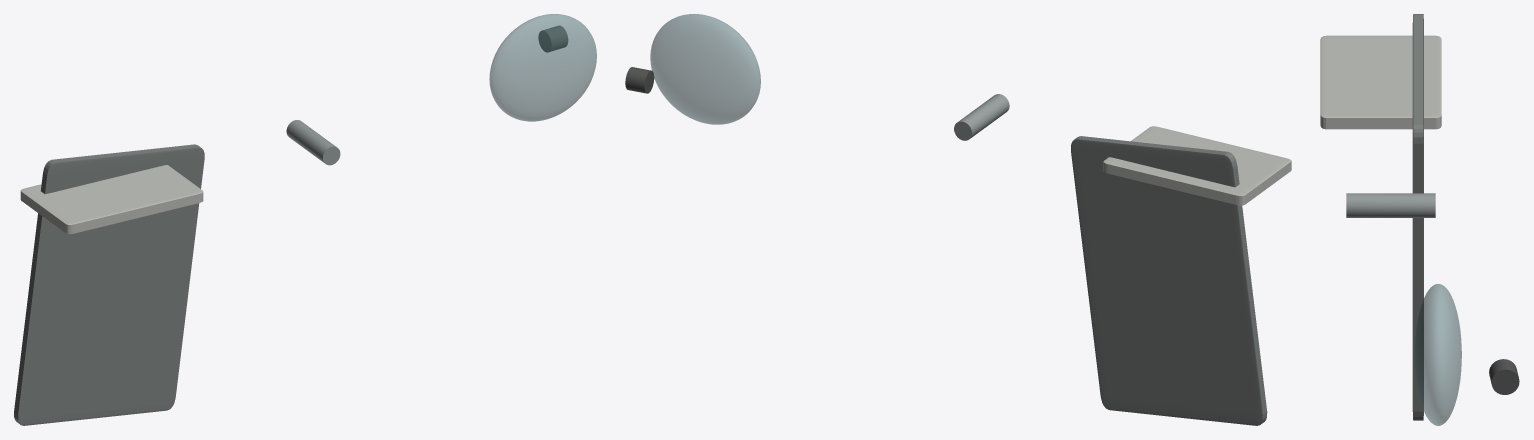
Rendered from c-u18-awacs-lod2.glb.
3 views of the same model, side by side, from view 1: azimuth 30°, elevation 25°; view 2: azimuth 150°, elevation 25°; view 3: azimuth 270°, elevation 25° (orthographic). The views are drawn at different scales.
Parts seen in each view (by area): view 1: transport_tailplane_-1, transport_cockpit, transport_fin_0, awacs_pylon, defensive_cannon_muzzle_0; view 2: transport_tailplane_-1, transport_cockpit, transport_fin_0, awacs_pylon, defensive_cannon_muzzle_0; view 3: transport_fin_0, transport_cockpit, transport_tailplane_-1, awacs_pylon, defensive_cannon_muzzle_0.
Part boxes in pixels (x1,y1,x2,y2): transport_tailplane_-1: [14, 144, 204, 425]; transport_cockpit: [489, 14, 596, 121]; transport_fin_0: [20, 165, 203, 234]; awacs_pylon: [286, 120, 340, 165]; defensive_cannon_muzzle_0: [538, 25, 567, 52]; transport_tailplane_-1: [1071, 136, 1267, 425]; transport_cockpit: [650, 14, 760, 124]; transport_fin_0: [1103, 126, 1291, 205]; awacs_pylon: [954, 94, 1009, 140]; defensive_cannon_muzzle_0: [625, 67, 654, 93]; transport_fin_0: [1320, 35, 1441, 129]; transport_cockpit: [1414, 284, 1461, 425]; transport_tailplane_-1: [1412, 14, 1423, 420]; awacs_pylon: [1346, 193, 1435, 217]; defensive_cannon_muzzle_0: [1489, 359, 1519, 394].
Size of what is drawn, in the model's own units: 20.79 by 9.89 by 4.96.
